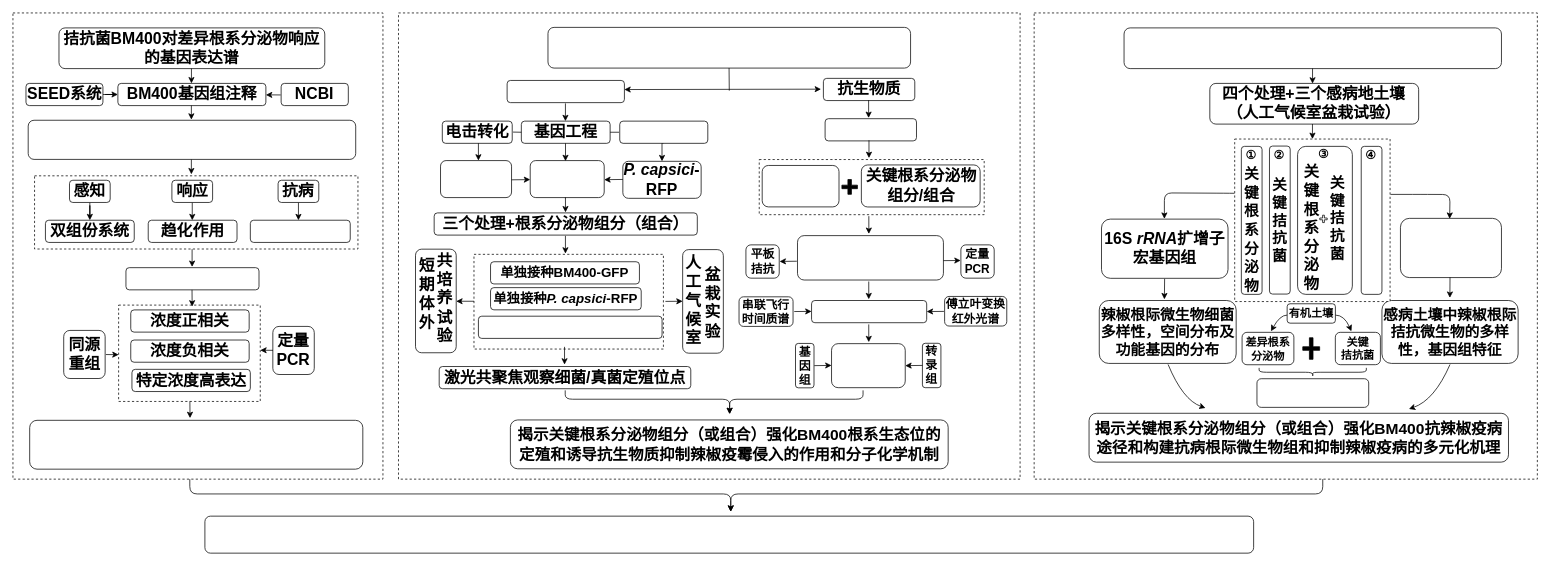
Image size: 1550x566. Some labels were removed from this diagram. The shapes that lost their labels are listed below. From the top down, each one's box as (x1, y1, x2, y2) in pixels, then its label:
(547, 27, 911, 68): BM400 在根系生态位点的定殖抑制辣椒疫霉侵入的作用和分子化学机制
(1123, 27, 1501, 69): 利用差异性根系分泌物强化 BM400 抗辣椒疫病的途径及相关根际微生态机理
(506, 80, 624, 103): 生态位点竞争
(27, 120, 356, 159): 转录组测序 （不同浓度差异根系分泌物与BM400共培养）
(619, 120, 708, 143): CaCl 2 -PEG
(824, 118, 916, 141): 体外共培养
(440, 160, 512, 198): BM400-GFP
(529, 160, 604, 198): 荧光菌株构建
(761, 165, 839, 207): 野生型BM400
(250, 219, 350, 242): 脂肽类抗生素
(1360, 146, 1382, 294): 空白对照
(797, 235, 943, 280): 关键根系分泌物组分（组合）诱导
(1400, 218, 1501, 278): 泛 基因组 反转录组 Q-PCR
(125, 267, 259, 290): 关键功能基因验证
(478, 315, 662, 338): BM400-GFP+ P. capsici -RFP
(811, 300, 927, 323): 组成和结构特征
(831, 343, 905, 388): 回溯基因 合成 路径
(1256, 378, 1369, 407): 强化感病土壤中抗病根际微生物组构建
(29, 420, 363, 469): 揭示有机种植土壤下辣椒差异性根系分泌物组分对BM400功能基因调控的相关分子机制
(204, 515, 1254, 553): 系统解析有机种植土壤中辣椒根系分泌物对强化拮抗菌BM400的招募、植物抗病性，以及构建抗病根际微生物组协同抵御辣椒疫病的机理
